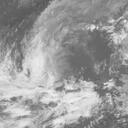cyclone: (28, 58, 91, 116)
